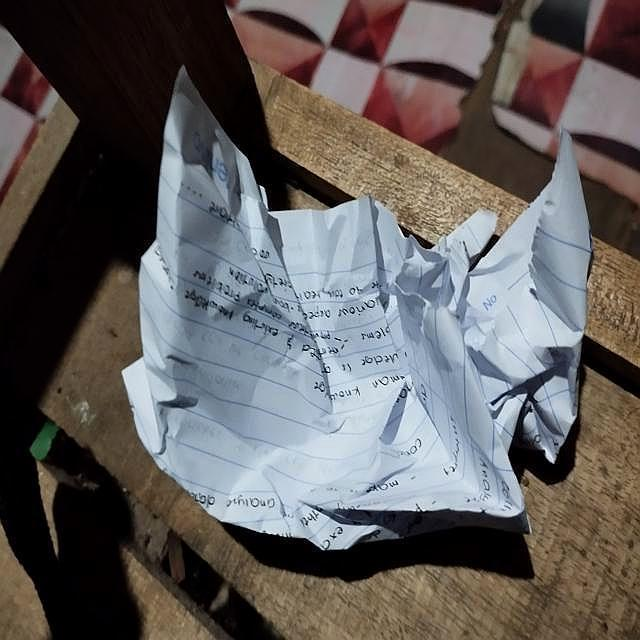Biodegradable: (125, 61, 589, 551)
